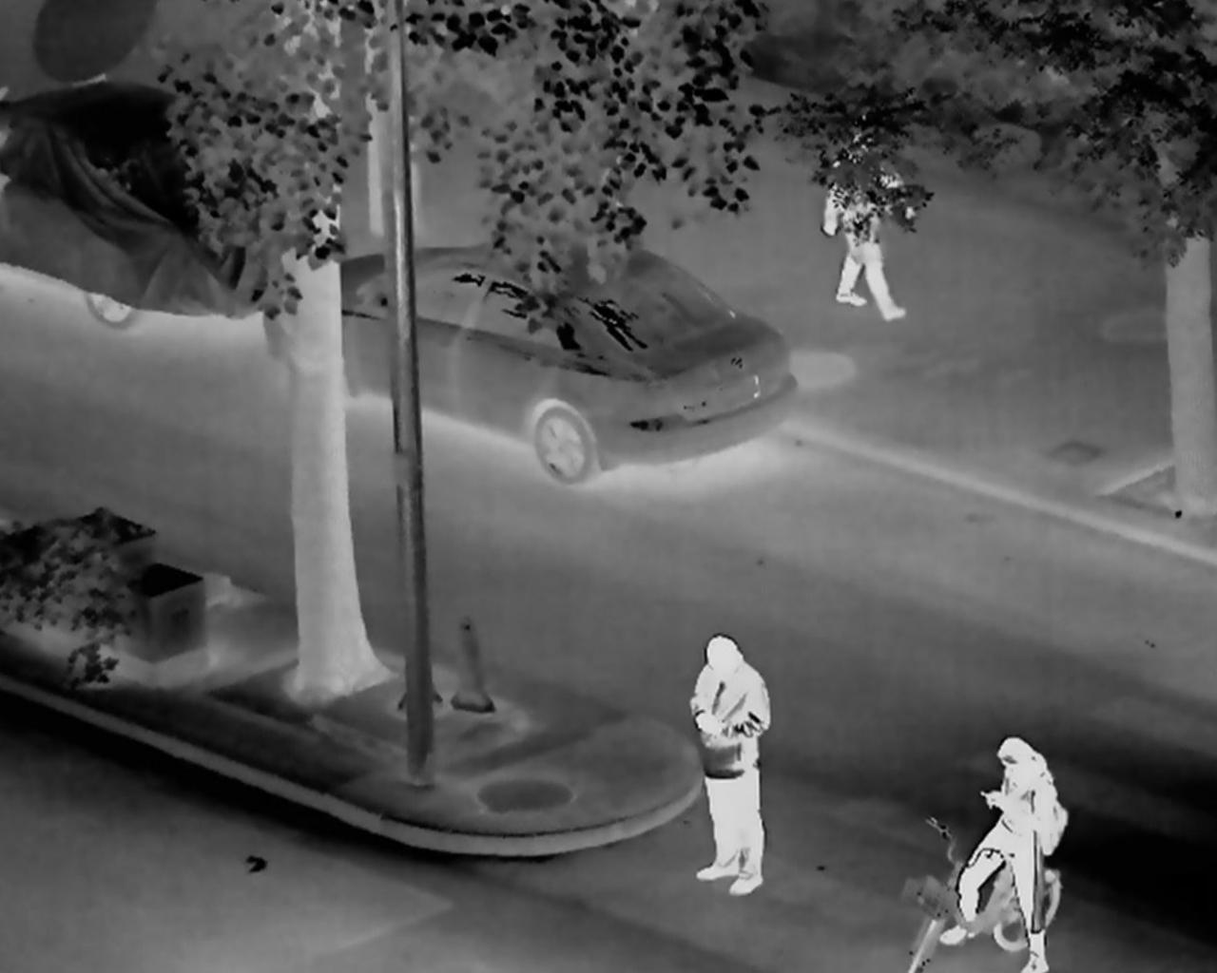person: (940, 736, 1061, 973), (687, 636, 773, 896), (821, 108, 917, 320)
